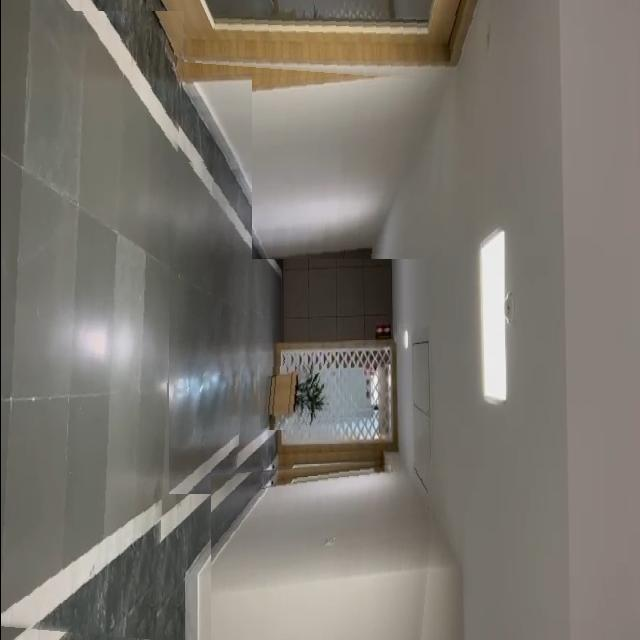door: (144, 0, 476, 84)
floor: (0, 11, 183, 640), (168, 158, 261, 494)
furniture: (259, 358, 333, 430)
wall: (210, 454, 438, 640), (251, 62, 451, 259)
